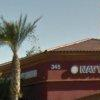Palm tree: (5, 9, 35, 95)
